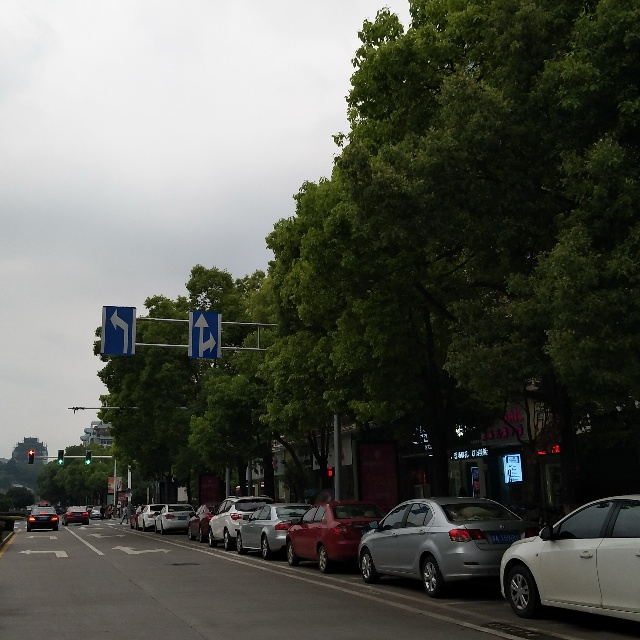left: (101, 305, 135, 352)
